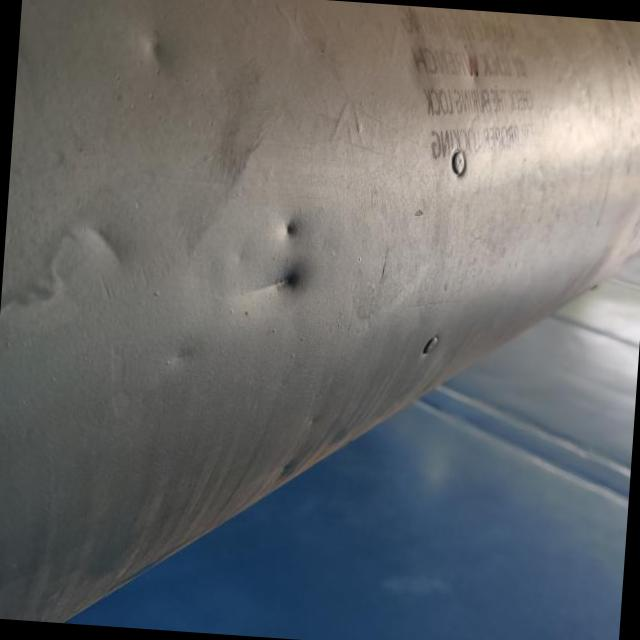Dent: (197, 243, 312, 307), (112, 14, 188, 100), (65, 210, 143, 286), (256, 205, 309, 263)
